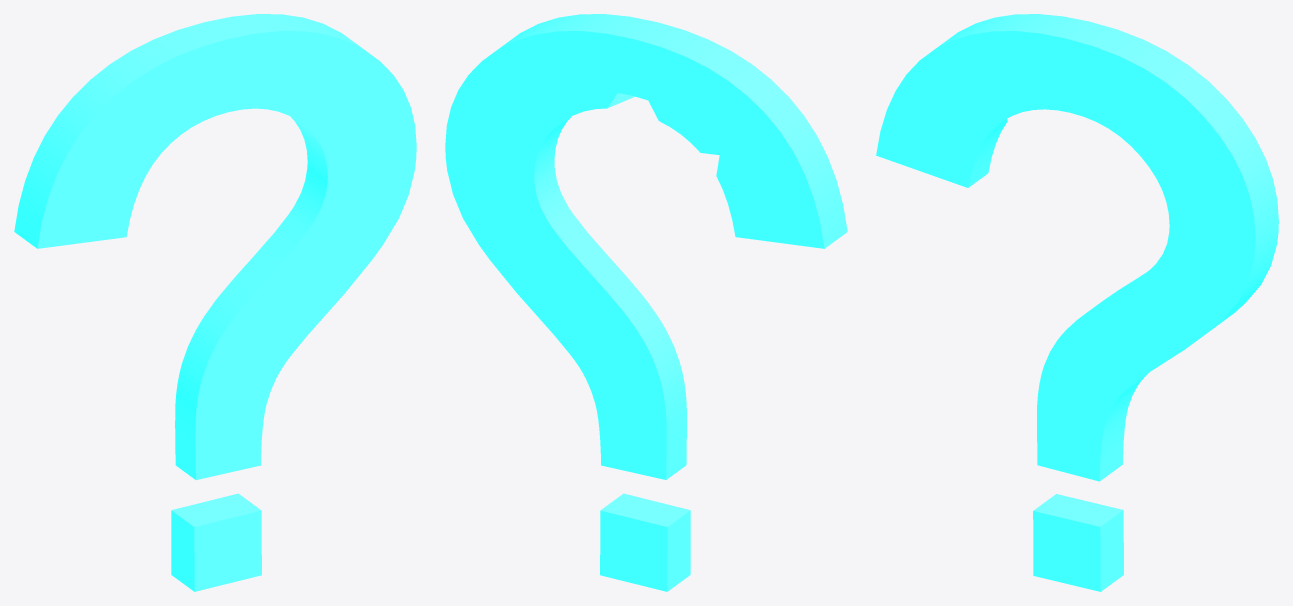
File: icon_question.fbx
3 renders of one model, left to right at view 1: azimuth 30°, elevation 25°; view 2: azimuth 150°, elevation 25°; view 3: azimuth 330°, elevation 25°, orthographic.
Parts seen in each view (by area): view 1: Question; view 2: Question; view 3: Question.
Boxes of the visible parts, x1,y1,x2,y2 form: Question: (14,14,416,591); Question: (445,14,847,591); Question: (876,14,1278,591).
Bounding box in the file's own units: 9.8 × 13.44 × 1.04.
